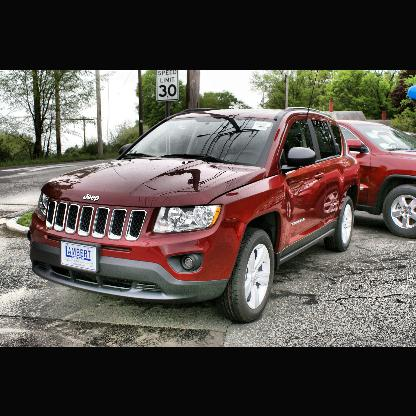Jeep Compass SUV 2012: (29, 107, 362, 326)
